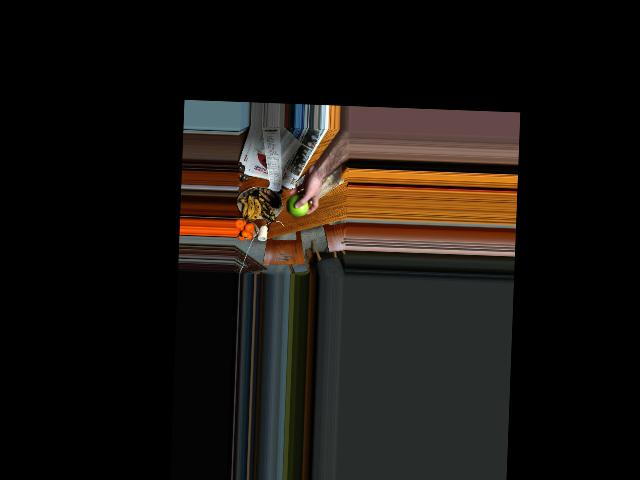apple: (286, 192, 309, 217)
